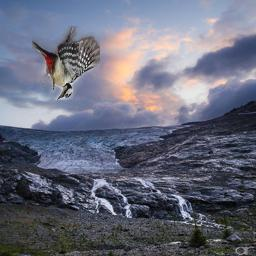Woodpecker: (32, 26, 100, 100)
